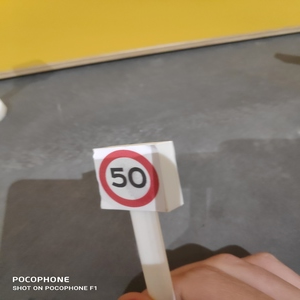50-bord: (96, 149, 162, 209)
